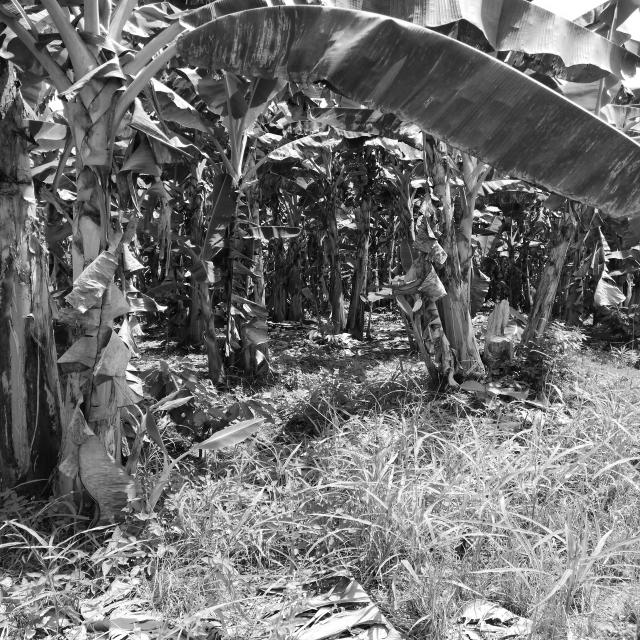Banana-plant: (52, 60, 140, 534), (0, 58, 53, 512), (518, 186, 582, 400), (442, 165, 480, 388), (305, 181, 344, 337), (345, 158, 365, 341)
